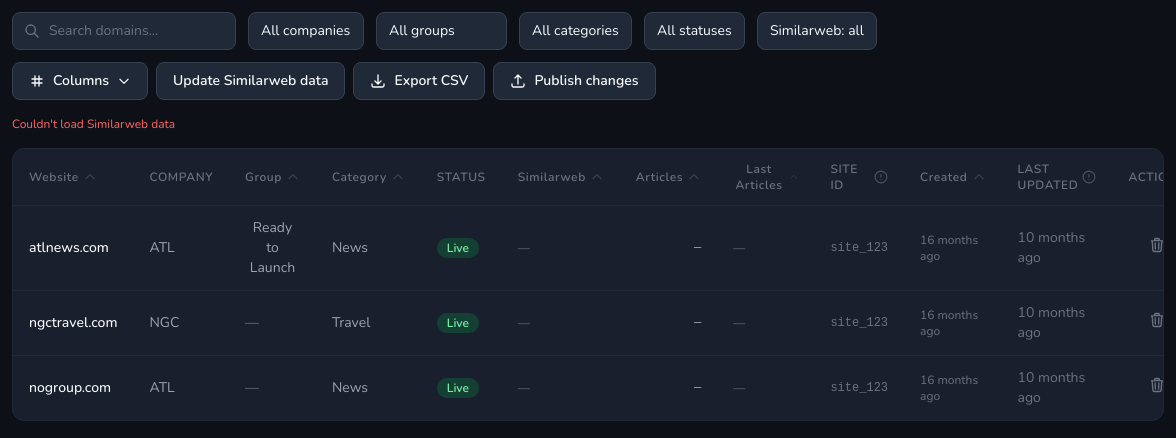
Test: SitesTable — Group filter and Export CSV › filters to ungrouped sites via the 'No group' option
This screenshot has width=1176, height=438.
expect the text "atlnews.com" is shown: met, box [13,206,134,290]
Select "No group" in the dropdown named "Group filter" at (442, 31), box [376,12,507,50]
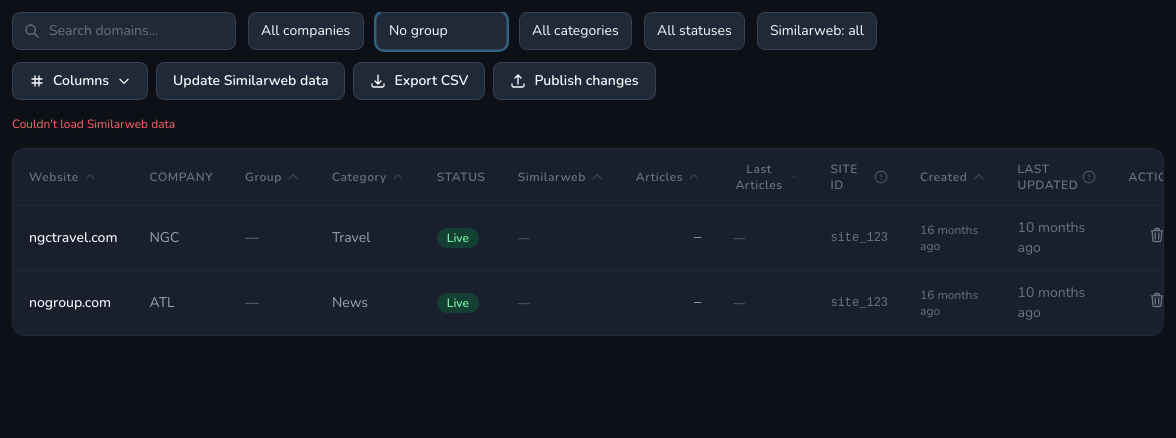
expect the text "ngctravel.com" is shown: met, box [13,206,134,270]
expect the text "atlnews.com" is gone: met
